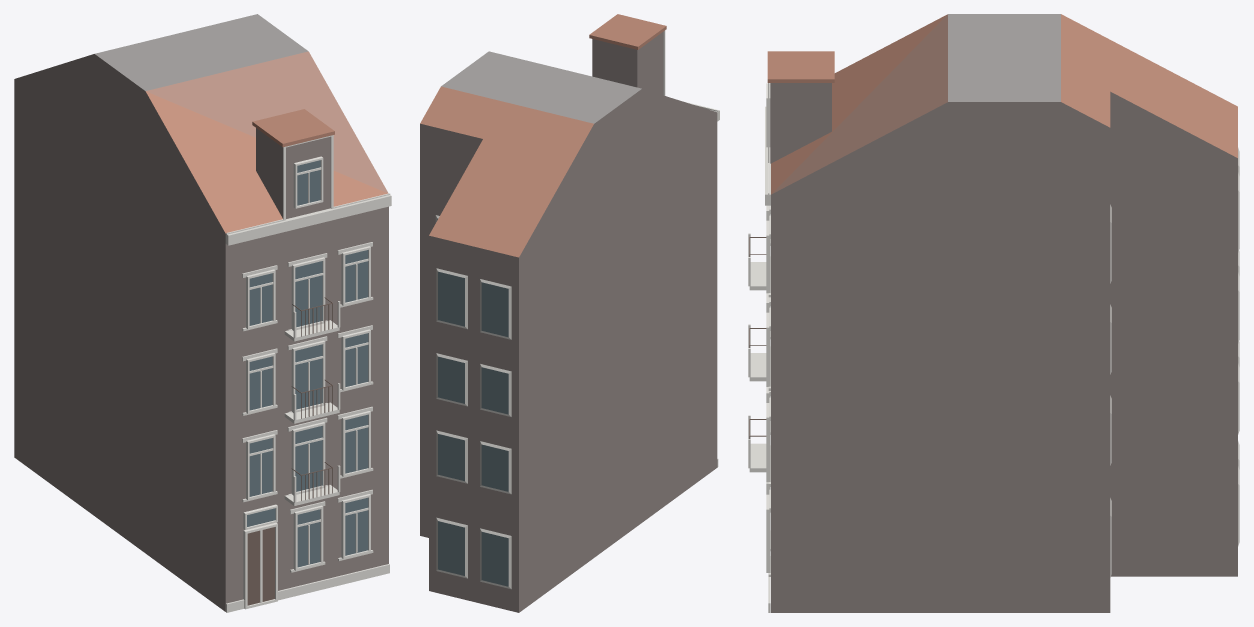
The model's file is chunk-face-retief-45-75-r3.glb.
3 renders of one model, left to right at view 1: azimuth 30°, elevation 25°; view 2: azimuth 150°, elevation 25°; view 3: azimuth 270°, elevation 25°, orthographic. The views are drawn at different scales.
Parts seen in each view (by area): view 1: face-retief-45-75-r3; view 2: face-retief-45-75-r3; view 3: face-retief-45-75-r3.
Boxes of the visible parts, x1,y1,x2,y2 form: face-retief-45-75-r3: [14, 14, 391, 612]; face-retief-45-75-r3: [420, 14, 719, 612]; face-retief-45-75-r3: [748, 14, 1239, 612].
Size of the model in its own units: 5.95 by 16.1 by 14.03.
